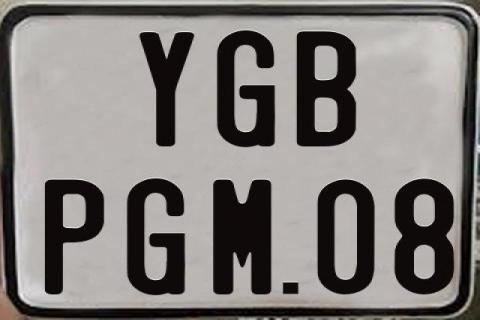0: (315, 178, 379, 298), (391, 177, 452, 297)
B: (296, 30, 356, 146)
G: (217, 29, 279, 147), (124, 177, 183, 293)
M: (213, 177, 272, 295)
P: (42, 177, 106, 293)
Y: (139, 32, 198, 150)
